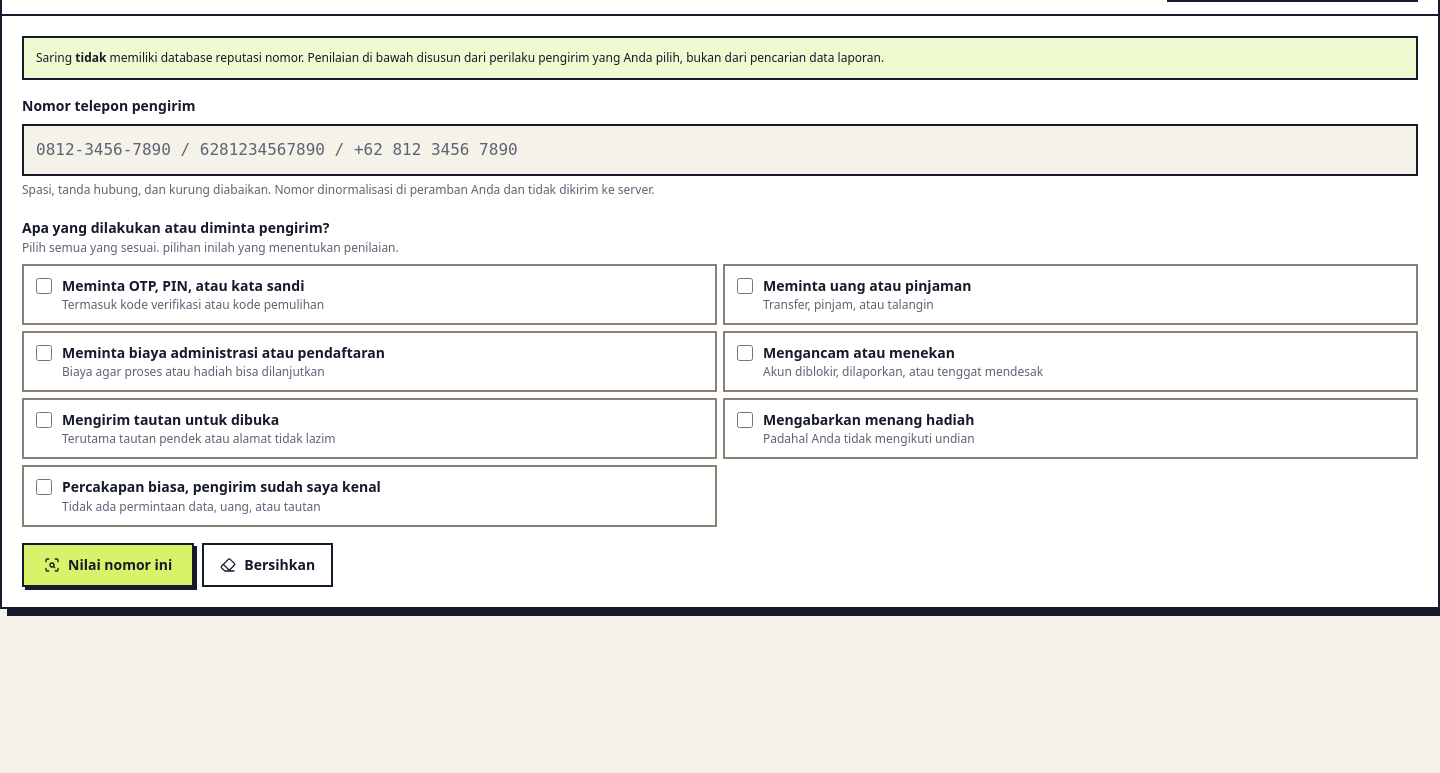
Scenario: PhoneCheck › produces an in-site assessment instead of an external redirect
Type "+62 812-3456-7890" into the field labelled "Nomor telepon pengirim" at [720, 150], box [22,124,1418,176]
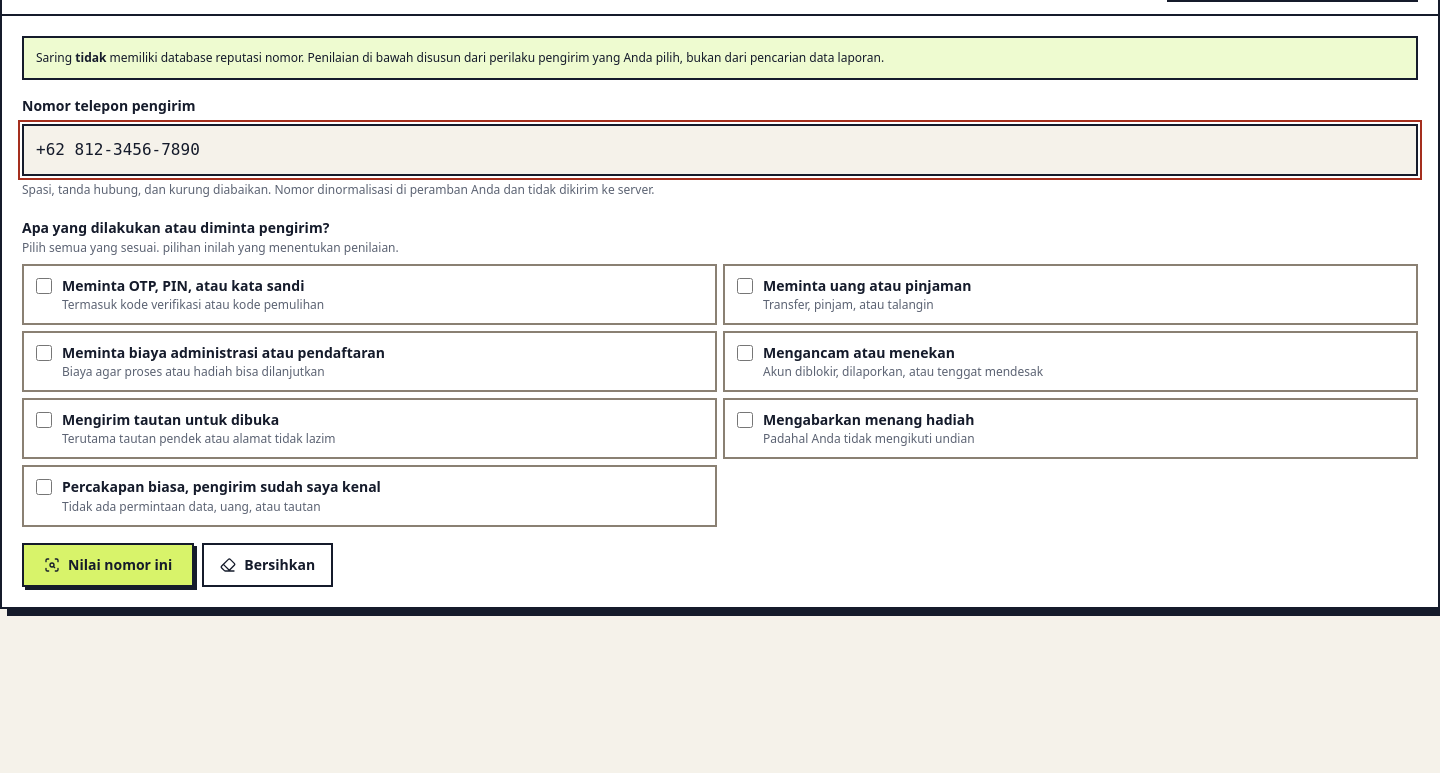
Click the checkbox labelled "Meminta uang atau pinjaman Transfer, pinjam, atau talangin" at [745, 286], box [737,278,753,294]
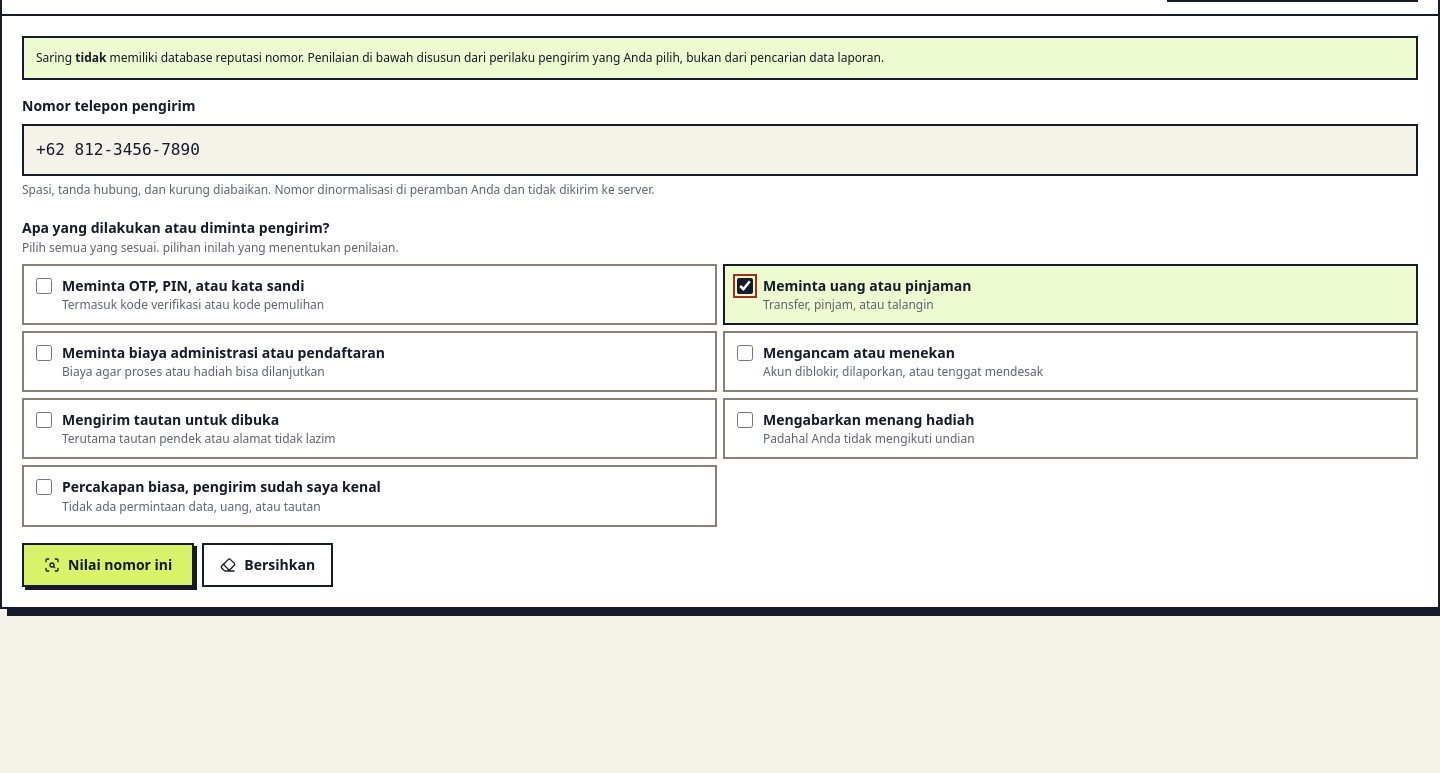
Click the button "Nilai nomor ini" at [108, 564], box [22,542,194,586]
(page scrolled)
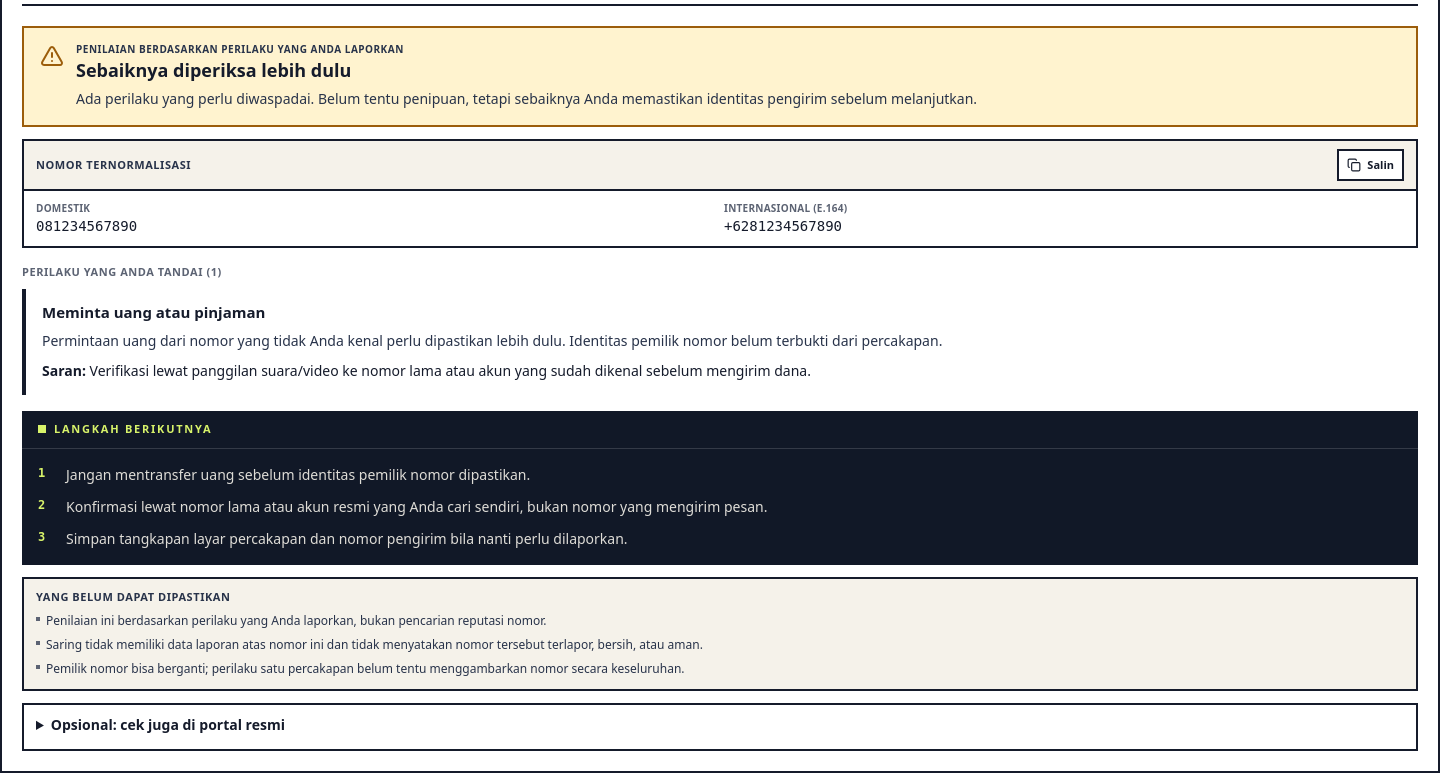
Now the heading "Nomor ternormalisasi" is shown, box [36,157,191,173]
Now the text "081234567890" is shown, box [36,218,137,234]
Now the text "+6281234567890" is shown, box [724,218,842,234]
